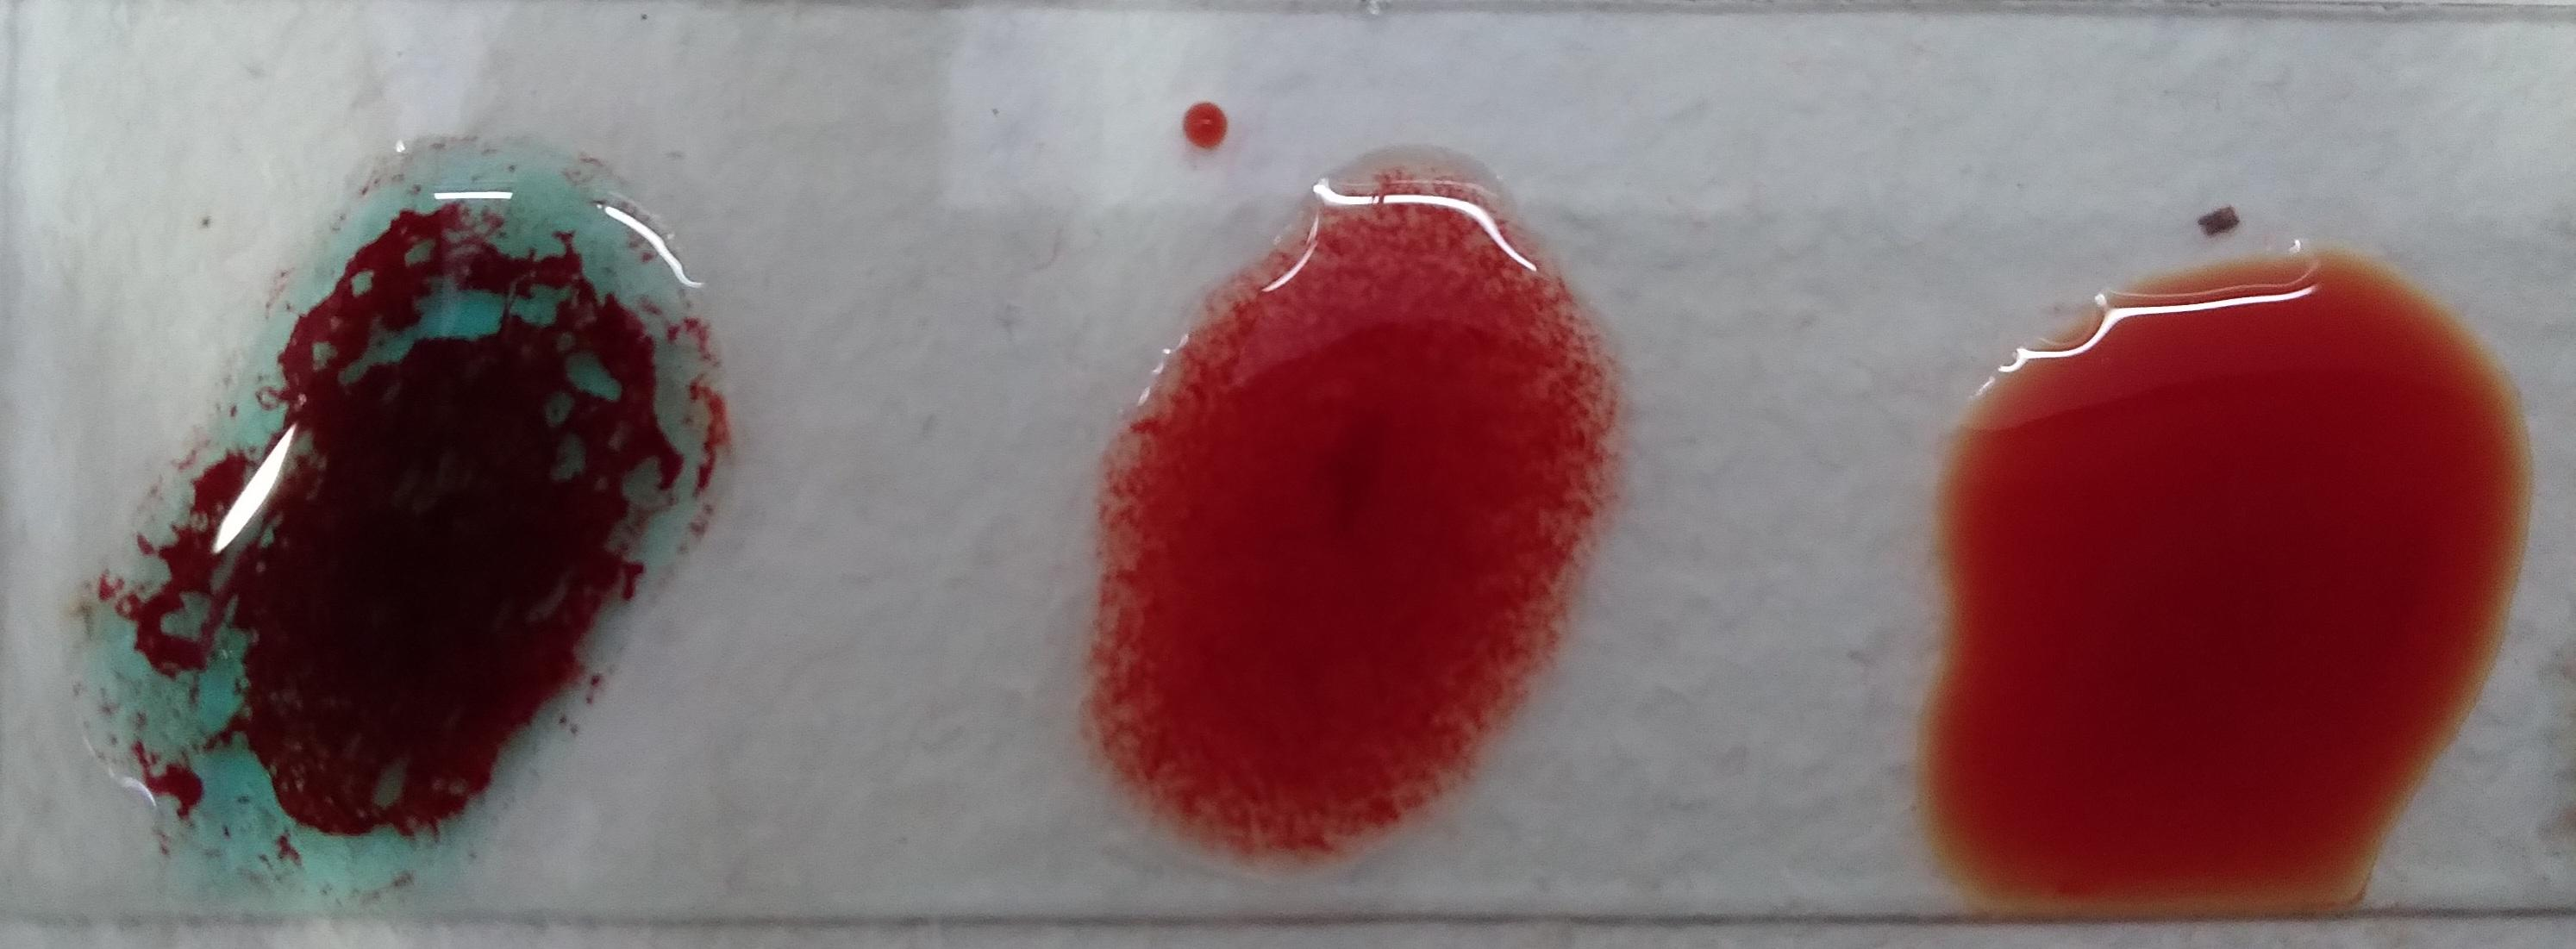A: (1889, 46, 2415, 801)
D: (969, 84, 1490, 783)
